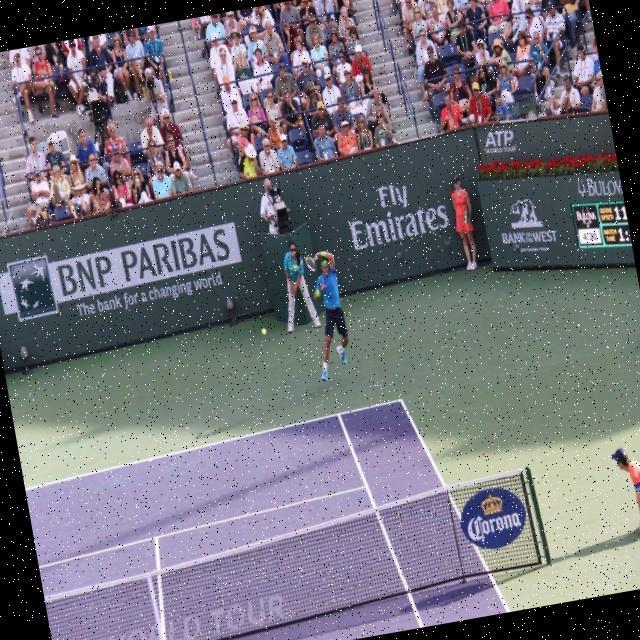Emirates: (348, 204, 451, 253)
